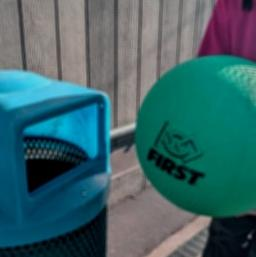algae: (133, 56, 256, 217)
